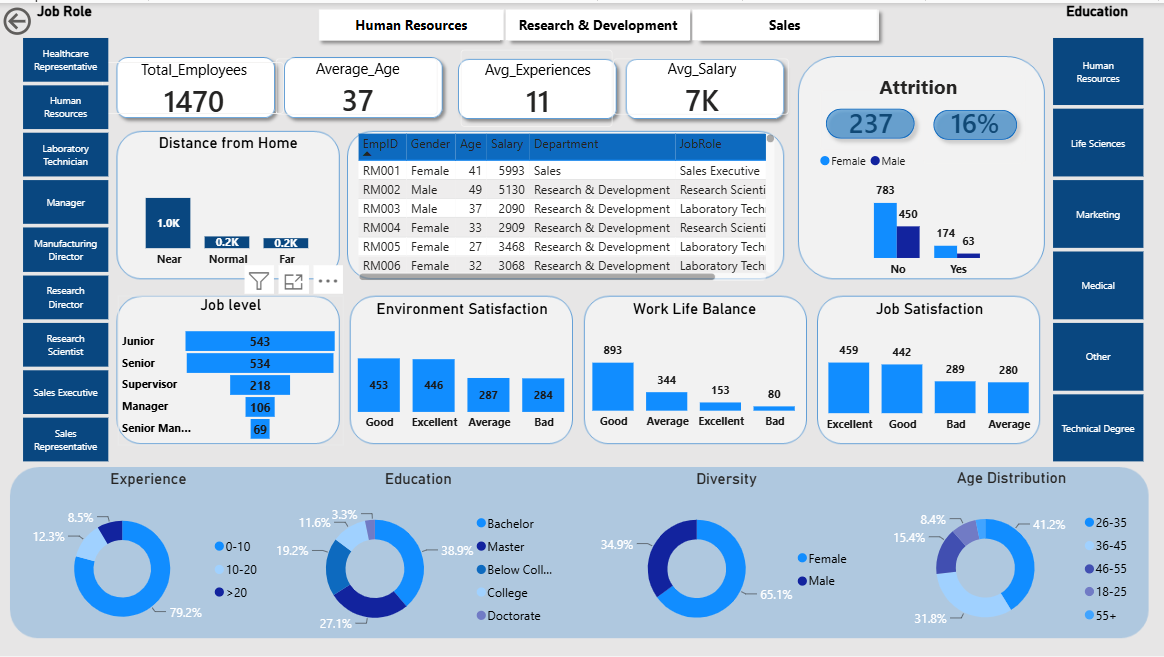

The dashboard page shown, as its layout file describes it:
{"tool":"powerbi","page":{"name":"Page 1","canvas":[1280,720],"ordinal":0},"visuals":[{"type":"cardVisual","fields":{"Data":["All Measures.Total_Employees"]},"box":[96.1,48,234.6,91.9],"z":0},{"type":"cardVisual","fields":{"Data":["All Measures.Average_Age"]},"box":[286.8,43.9,212.7,96.1],"z":1000},{"type":"cardVisual","fields":{"Data":["All Measures.Avg_Salary"]},"box":[657.3,43.9,227.8,96.1],"z":2000},{"type":"cardVisual","fields":{"Data":["All Measures.Avg_Experiences"]},"box":[489.9,34.3,201.7,119.4],"z":3000},{"type":"cardVisual","fields":{"Data":["All Measures.Attrition"]},"box":[885.1,78.2,142.7,101.5],"z":4000},{"type":"cardVisual","fields":{"Data":["All Measures.Attrition%"]},"box":[997.6,63.1,146.8,131.7],"z":5000},{"type":"shape","box":[898.8,107,115.3,50.8],"z":6000},{"type":"shape","box":[1016.8,108.4,109.8,50.8],"z":7000},{"type":"textbox","box":[891.9,71.4,234.6,39.8],"z":8000},{"type":"clusteredColumnChart","fields":{"Category":["HR_Analytics.Attrition"],"Series":["HR_Analytics.Gender"],"Y":["All Measures.Total_Employees"]},"box":[896.1,153.7,248.4,156.4],"z":9000},{"type":"clusteredColumnChart","title":"Job Satisfaction","fields":{"Y":["All Measures.Total_Employees"],"Category":["HR_Analytics.JobSatisfaction (groups)"]},"box":[882.3,325.2,278.6,155.1],"z":10000},{"type":"clusteredColumnChart","title":"Work Life Balance","fields":{"Y":["All Measures.Total_Employees"],"Category":["HR_Analytics.WorkLifeBalance (groups)"]},"box":[623,325.2,281.3,152.3],"z":11000},{"type":"clusteredColumnChart","title":"Environment Satisfaction","fields":{"Category":["HR_Analytics.EnvironmentSatisfaction (groups)"],"Y":["All Measures.Total_Employees"]},"box":[365,325.2,286.8,153.7],"z":12000},{"type":"funnel","title":"Job level","fields":{"Category":["HR_Analytics.JobLevel (groups)"],"Y":["All Measures.Total_Employees"]},"box":[130.4,321.1,248.4,164.7],"z":13000},{"type":"clusteredColumnChart","title":"Distance from Home","fields":{"Y":["All Measures.Total_Employees"],"Category":["HR_Analytics.DistanceFromHome (groups)"]},"box":[130.4,142.7,242.9,156.4],"z":14000},{"type":"donutChart","title":"Age Distribution","fields":{"Category":["HR_Analytics.AgeGroup"],"Y":["All Measures.Total_Employees"]},"box":[970.2,510.5,282.7,188],"z":15000},{"type":"donutChart","title":"Education","fields":{"Y":["All Measures.Total_Employees"],"Category":["HR_Analytics.Education (groups)"]},"box":[297.8,511.8,325.2,186.6],"z":16000},{"type":"donutChart","title":"Diversity","fields":{"Category":["HR_Analytics.Gender"],"Y":["All Measures.Total_Employees"]},"box":[651.8,511.8,293.7,186.6],"z":17000},{"type":"donutChart","title":"Experience","fields":{"Category":["HR_Analytics.YearsAtCompany (groups)"],"Y":["All Measures.Total_Employees"]},"box":[30.2,511.8,267.6,186.6],"z":18000},{"type":"slicer","fields":{"Values":["HR_Analytics.Department"]},"box":[325.2,0,662.8,48],"z":19000},{"type":"slicer","title":"Job Role","fields":{"Values":["HR_Analytics.JobRole"]},"box":[0,0,144.1,510.5],"z":20000},{"type":"slicer","title":"Education","fields":{"Values":["HR_Analytics.EducationField"]},"box":[1130.7,0,149.6,510.5],"z":21000},{"type":"tableEx","fields":{"Values":["HR_Analytics.EmpID","HR_Analytics.Gender","HR_Analytics.Age","HR_Analytics.Salary","HR_Analytics.Department","HR_Analytics.JobRole"]},"box":[388.3,138.6,467.9,171.5],"z":22000},{"type":"actionButton","box":[0,0,100,40],"z":23000}]}

Visuals, with their boxes in screenshot pixels (x1, y1, x2, y2), scaled from the page's 1280x720 canvas onto the 1164x657 screenshot:
cardVisual - All Measures.Total_Employees: detection(87, 44, 301, 128)
cardVisual - All Measures.Average_Age: detection(261, 40, 454, 128)
cardVisual - All Measures.Avg_Salary: detection(598, 40, 805, 128)
cardVisual - All Measures.Avg_Experiences: detection(446, 31, 629, 140)
cardVisual - All Measures.Attrition: detection(805, 71, 935, 164)
cardVisual - All Measures.Attrition%: detection(907, 58, 1041, 178)
shape: detection(817, 98, 922, 144)
shape: detection(925, 99, 1025, 145)
textbox: detection(811, 65, 1024, 101)
clusteredColumnChart - HR_Analytics.Attrition x HR_Analytics.Gender: detection(815, 140, 1041, 283)
"Job Satisfaction" clusteredColumnChart: detection(802, 297, 1056, 438)
"Work Life Balance" clusteredColumnChart: detection(567, 297, 822, 436)
"Environment Satisfaction" clusteredColumnChart: detection(332, 297, 593, 437)
"Job level" funnel: detection(119, 293, 344, 443)
"Distance from Home" clusteredColumnChart: detection(119, 130, 339, 273)
"Age Distribution" donutChart: detection(882, 466, 1139, 637)
"Education" donutChart: detection(271, 467, 567, 637)
"Diversity" donutChart: detection(593, 467, 860, 637)
"Experience" donutChart: detection(27, 467, 271, 637)
slicer - HR_Analytics.Department: detection(296, 0, 898, 44)
"Job Role" slicer: detection(0, 0, 131, 466)
"Education" slicer: detection(1028, 0, 1163, 466)
tableEx - HR_Analytics.EmpID x HR_Analytics.Gender: detection(353, 126, 779, 283)
actionButton: detection(0, 0, 91, 36)
